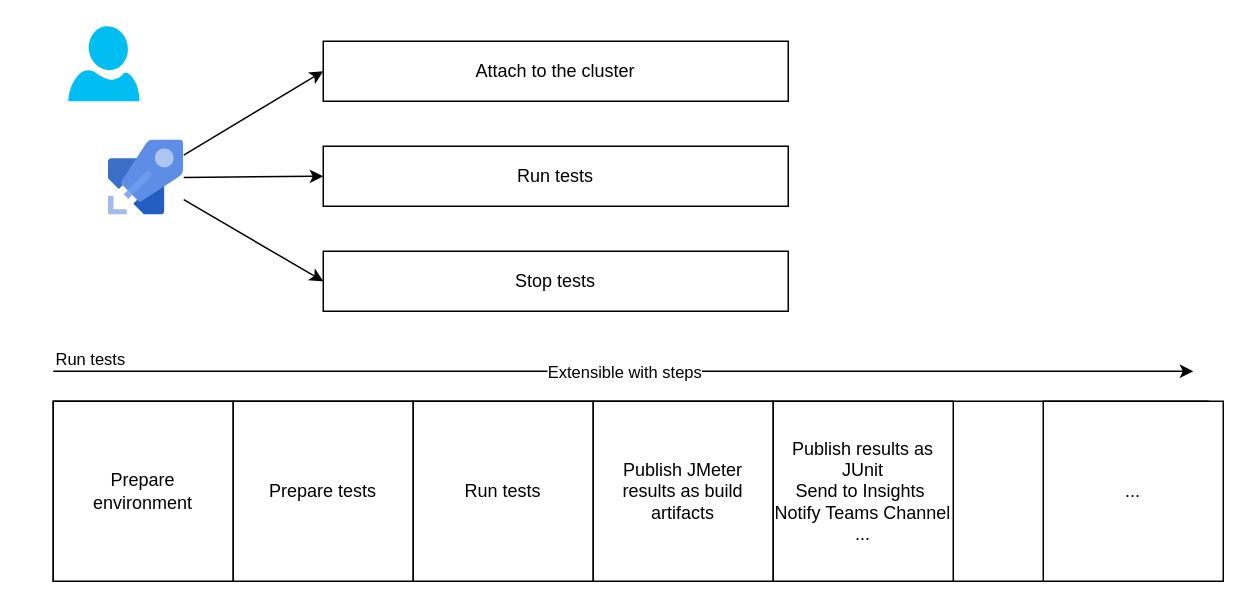
The diagram is 1251 pixels wide and 608 high, and some of its shapes have lost their labels. Here are the shapes that lost their labels. From the top down, the centre of each, then its label:
At [103,63]: "Performance Tester".
At [145,177]: "Azure pipelines (YAML)".
